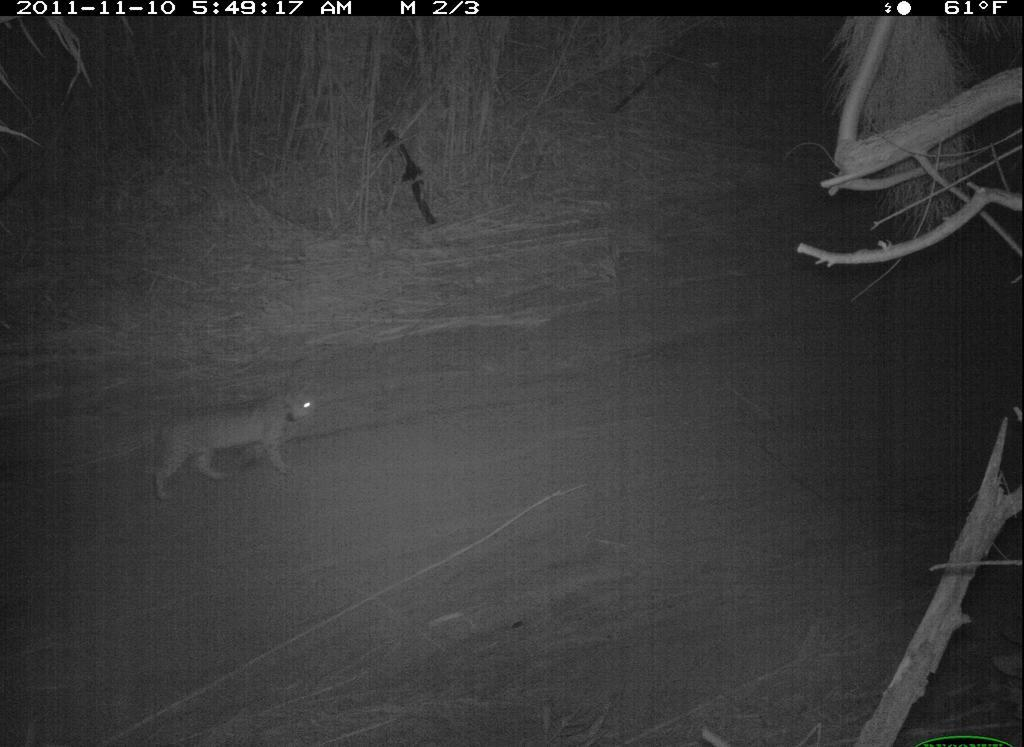bobcat: (148, 387, 319, 507)
